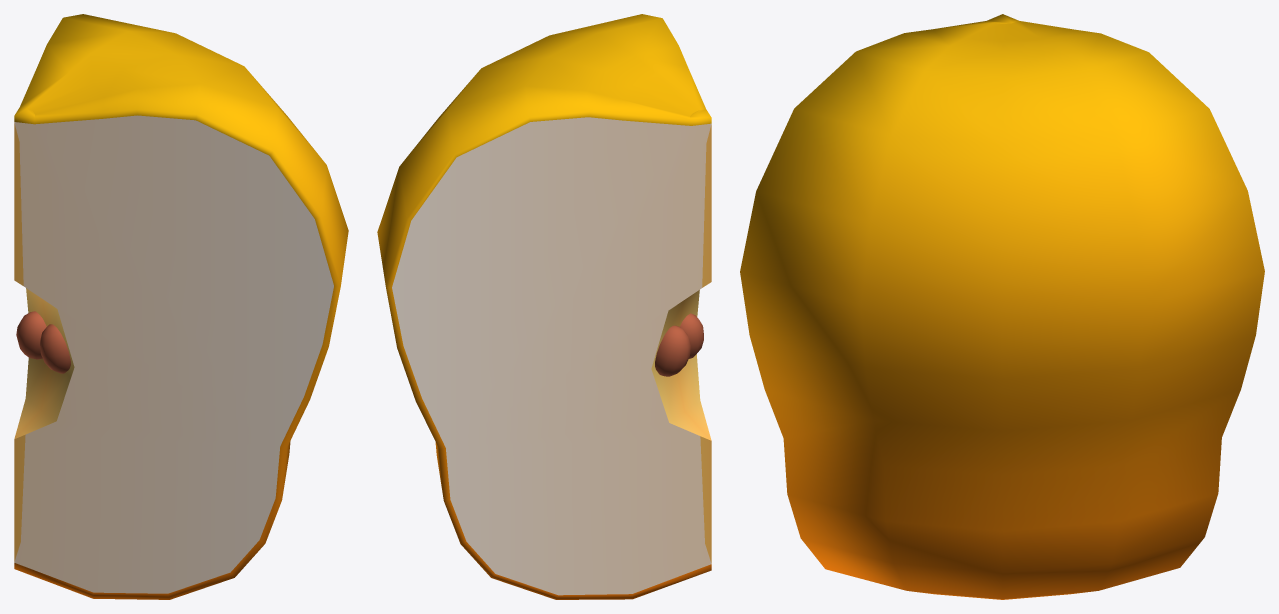
File: Apple_V2_02.fbx
3 views of the same model, side by side, from view 1: azimuth 30°, elevation 25°; view 2: azimuth 150°, elevation 25°; view 3: azimuth 270°, elevation 25° (orthographic). The views are drawn at different scales.
Visible parts, largest first — view 1: Apple_V2_02; view 2: Apple_V2_02; view 3: Apple_V2_02.
Part boxes in pixels (x1,y1,x2,y2): Apple_V2_02: (14,14,348,599); Apple_V2_02: (377,14,711,599); Apple_V2_02: (740,14,1264,599).
Bounding box in the file's own units: 15.57 × 25.27 × 22.04.
